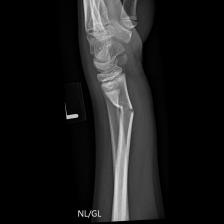greenstick-fracture: (80, 0, 165, 224)
